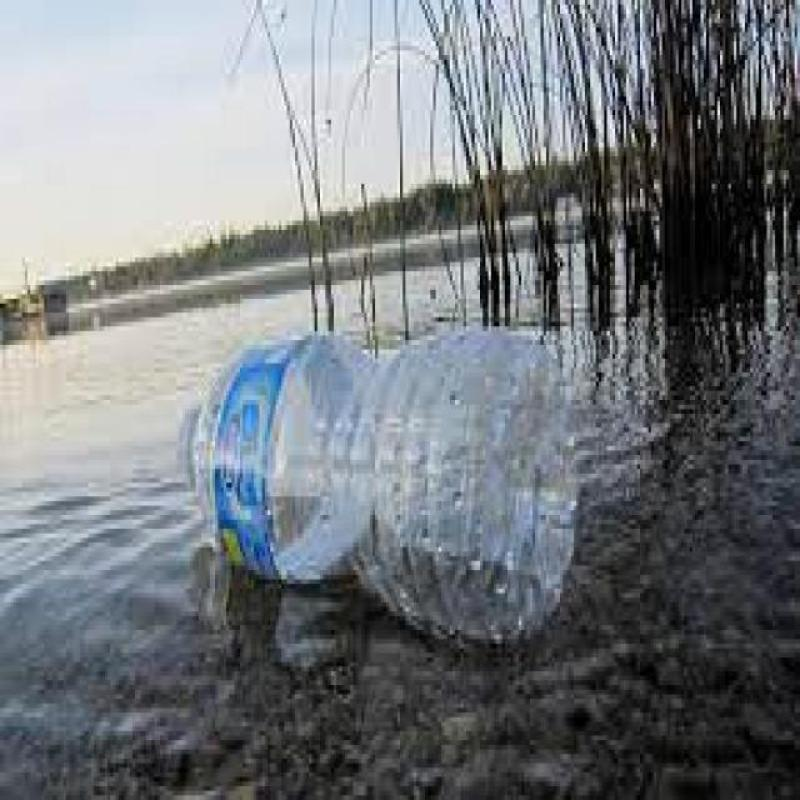botella: (178, 330, 578, 649)
